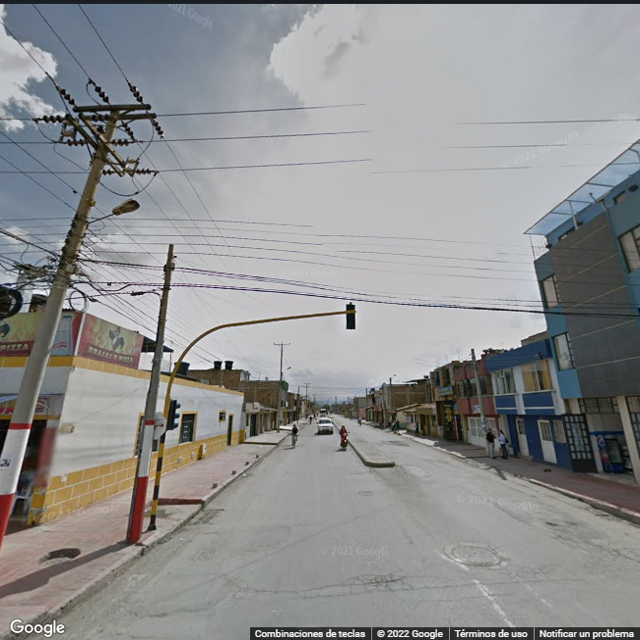D10: (429, 573, 588, 593), (398, 592, 511, 606), (231, 579, 352, 592)
D20: (348, 570, 416, 589)
